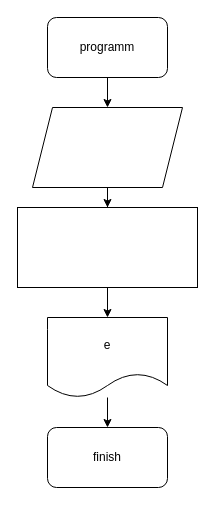
Some shapes in this 215 by 505 pixel diagram are drawn without their labels. The shapes that lost their labels are listed below. From the top down, each one's centre as x and y in pixels, then its label:
the point at 107,147: a=1234 b=4321 c=1243 d e
the point at 107,247: d= a*1/100 - b*2/100 - c*3/100 e=d+c*7/100
